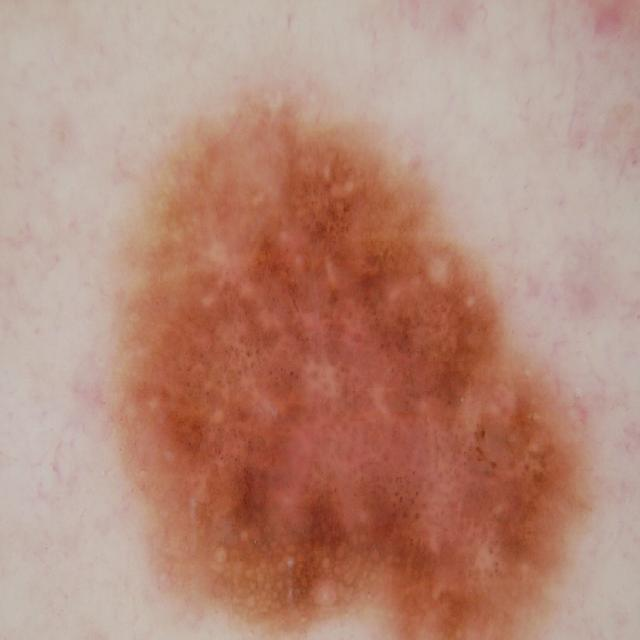Melanoma: (60, 66, 600, 640)
